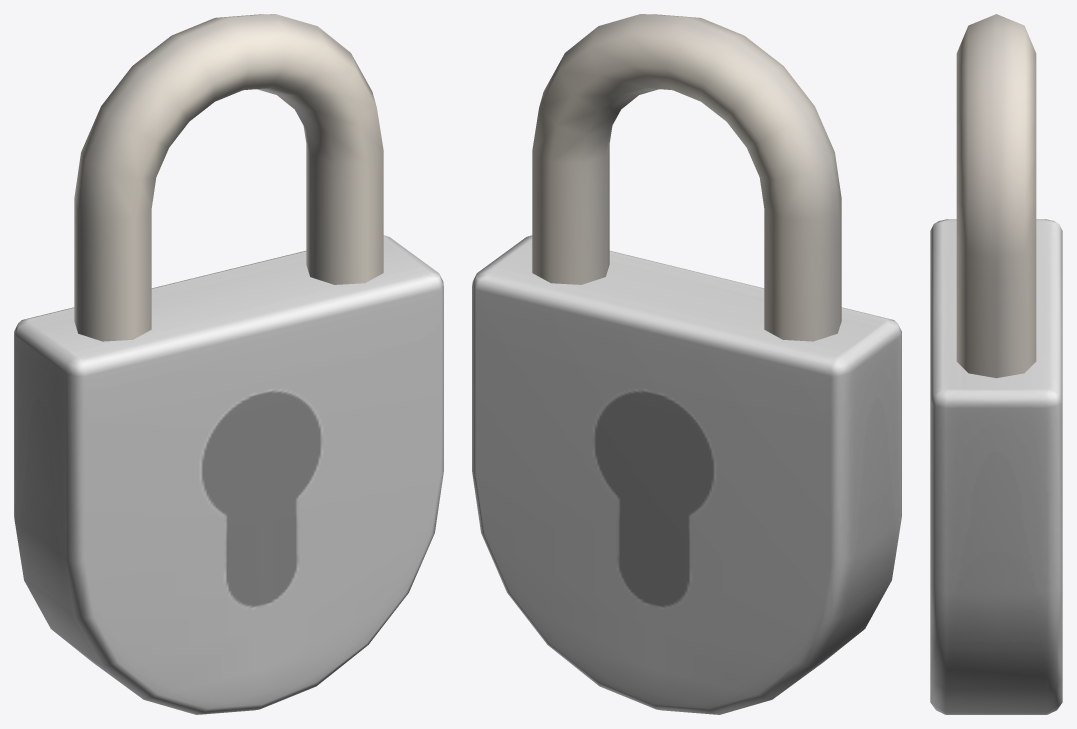
Rendered from Khoa_fbx.fbx.
3 views of the same model, side by side, from view 1: azimuth 30°, elevation 25°; view 2: azimuth 150°, elevation 25°; view 3: azimuth 270°, elevation 25° (orthographic).
Parts seen in each view (by area): view 1: Khoa_02_mesh, Khoa_01_mesh; view 2: Khoa_02_mesh, Khoa_01_mesh; view 3: Khoa_02_mesh, Khoa_01_mesh.
Boxes of the visible parts, x1,y1,x2,y2 form: Khoa_02_mesh: (14,235,443,714); Khoa_01_mesh: (74,14,383,341); Khoa_02_mesh: (472,235,901,714); Khoa_01_mesh: (532,14,841,341); Khoa_02_mesh: (930,219,1062,714); Khoa_01_mesh: (956,14,1036,378).
Bounding box in the file's own units: 0.3253 × 0.5553 × 0.1.
Materials: 2 (2 with a texture image).
